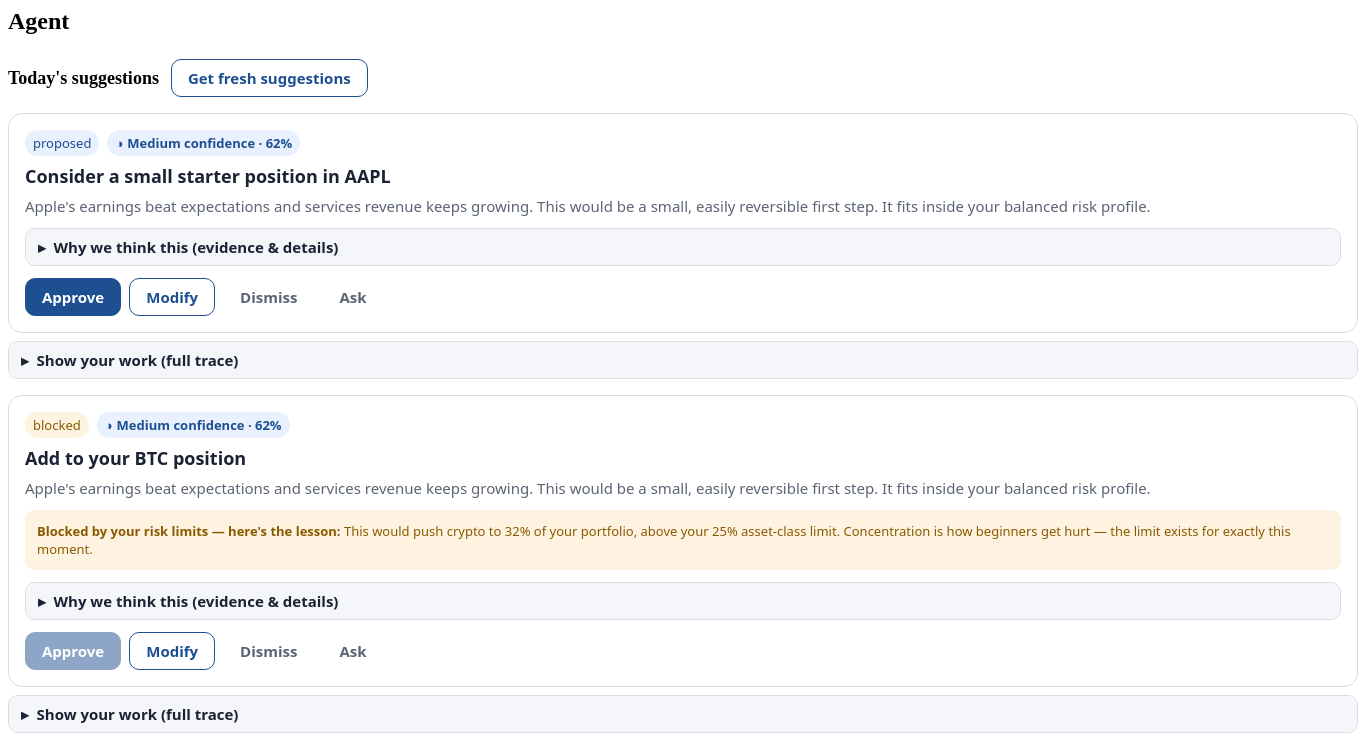
Test: approve flows through decisions API and reports the fill
The image size is (1366, 753).
Expected: the heading "Consider a small starter position in AAPL" is shown, x1=25 y1=164 x2=391 y2=188
Click the button "Approve" below "proposed" at (73, 297), box x1=25 y1=278 x2=121 y2=316
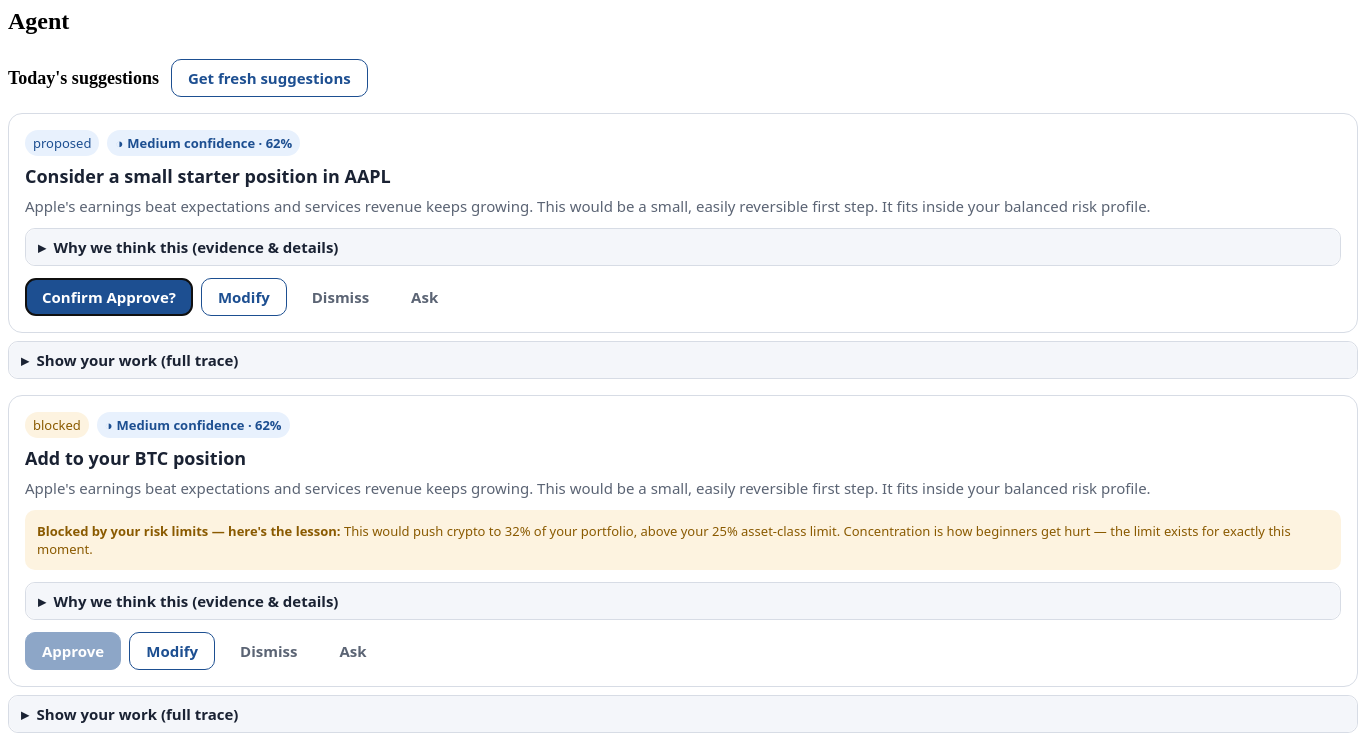
Click the button "Confirm Approve?" at (109, 297), box x1=25 y1=278 x2=193 y2=316
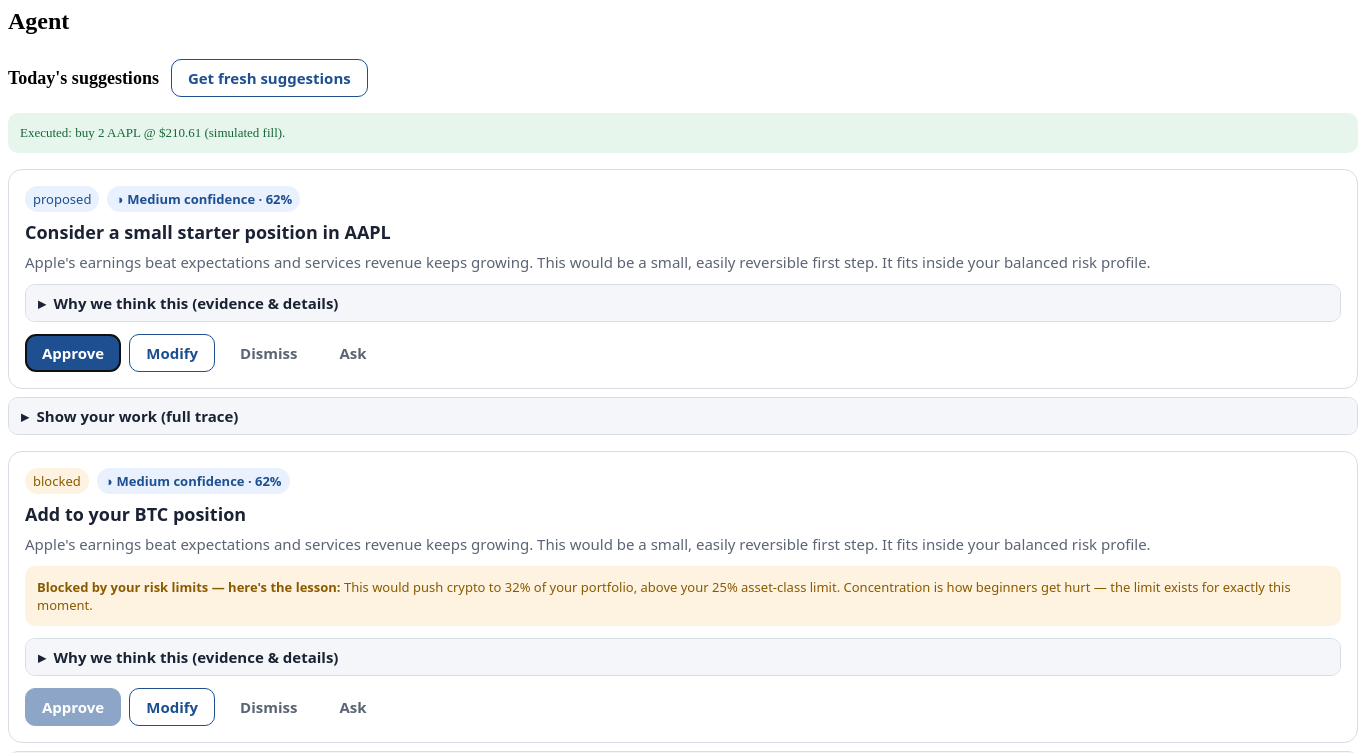
Expected: the message named "Execution result" shows "Executed: buy 2 AAPL @ $210.61", x1=8 y1=113 x2=1358 y2=153
